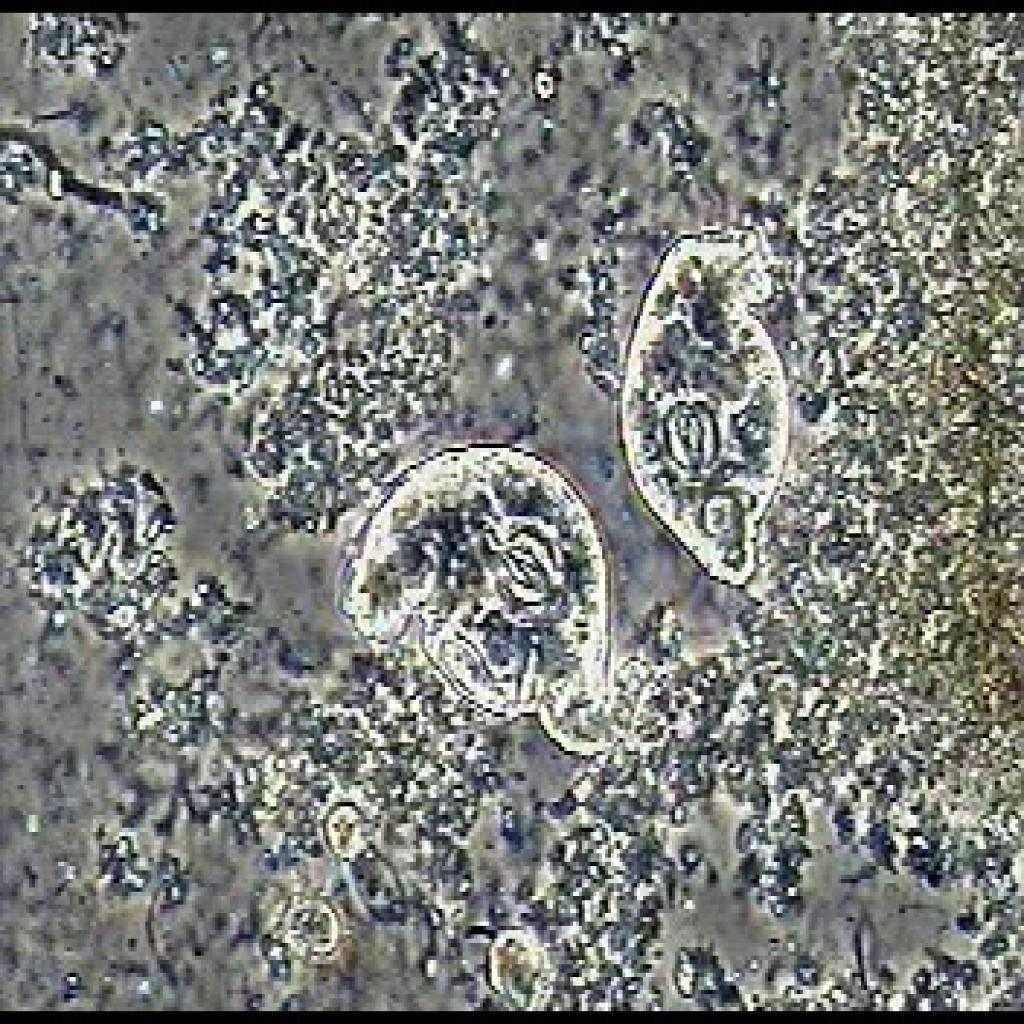Rotatoria: (320, 418, 623, 789), (621, 181, 807, 587)
